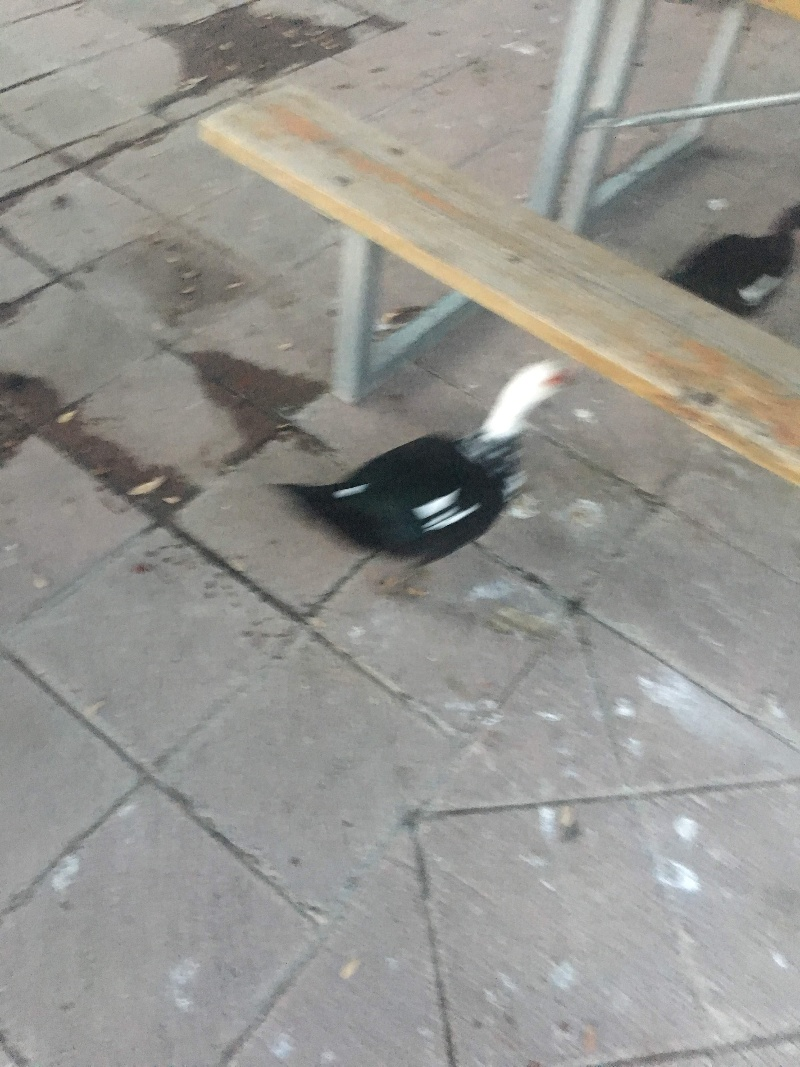pato: (321, 359, 569, 577)
